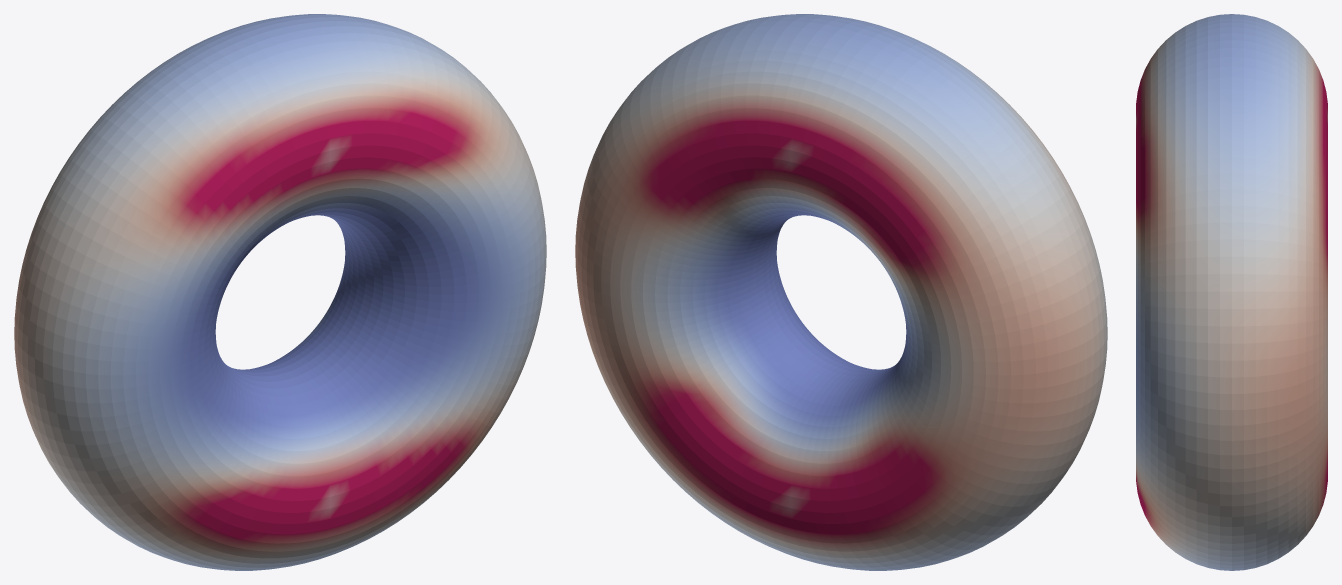
3 renders of one model, left to right at view 1: azimuth 30°, elevation 25°; view 2: azimuth 150°, elevation 25°; view 3: azimuth 270°, elevation 25°, orthographic. The views are drawn at different scales.
Parts seen in each view (by area): view 1: world; view 2: world; view 3: world.
Part boxes in pixels (<box>): world: <box>14,14,546,570</box>; world: <box>575,14,1107,570</box>; world: <box>1136,14,1327,570</box>.
Bounding box in the file's own units: 18.67 × 18.67 × 6.43.
